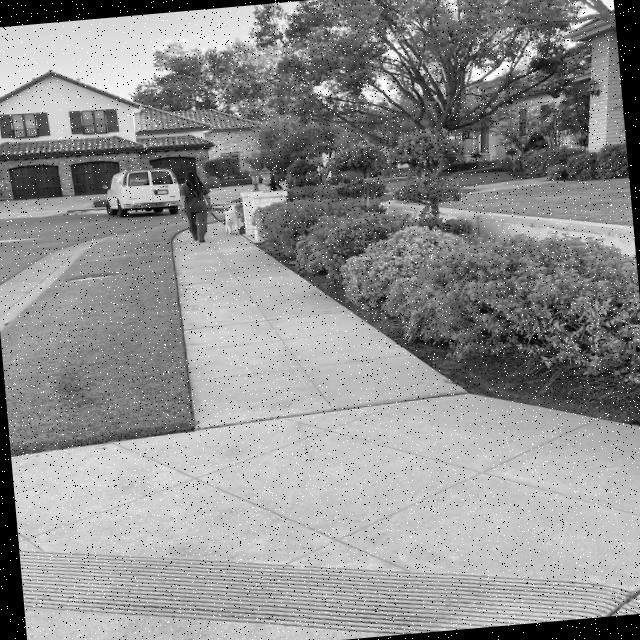curb: (0, 235, 87, 324)
walkway: (253, 429, 640, 539), (204, 404, 526, 501), (379, 472, 640, 590), (187, 340, 438, 448), (184, 294, 336, 366), (182, 258, 288, 328), (176, 231, 264, 283)
walkway-edge: (24, 419, 208, 480), (162, 222, 205, 438)
